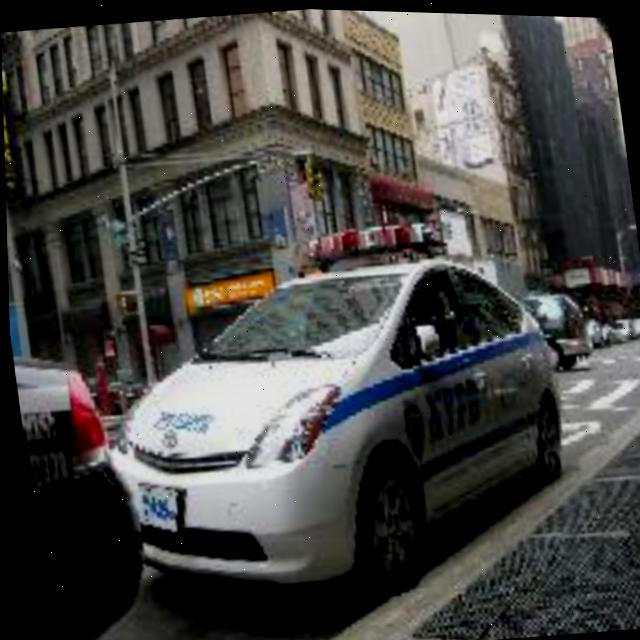emergency: (79, 203, 585, 612)
